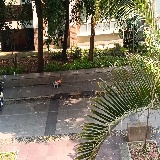fire: (56, 77, 62, 84)
